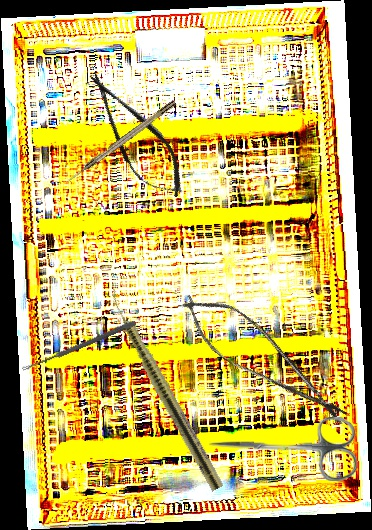Handpiece: (102, 286, 227, 493)
Hook Surgical: (65, 99, 178, 184)
Iris Scissors: (208, 414, 358, 482)
Micro Scissor: (166, 278, 364, 440), (72, 60, 197, 210)
Surgical Spoon: (21, 319, 137, 373)
